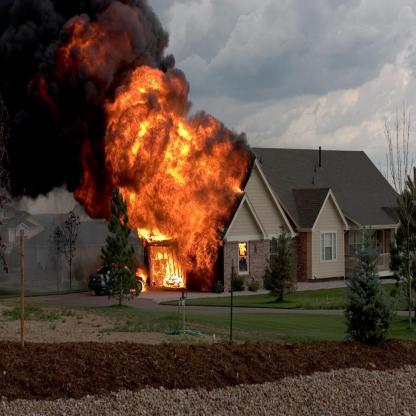fire: (66, 18, 248, 291)
smoke: (0, 1, 175, 199)
